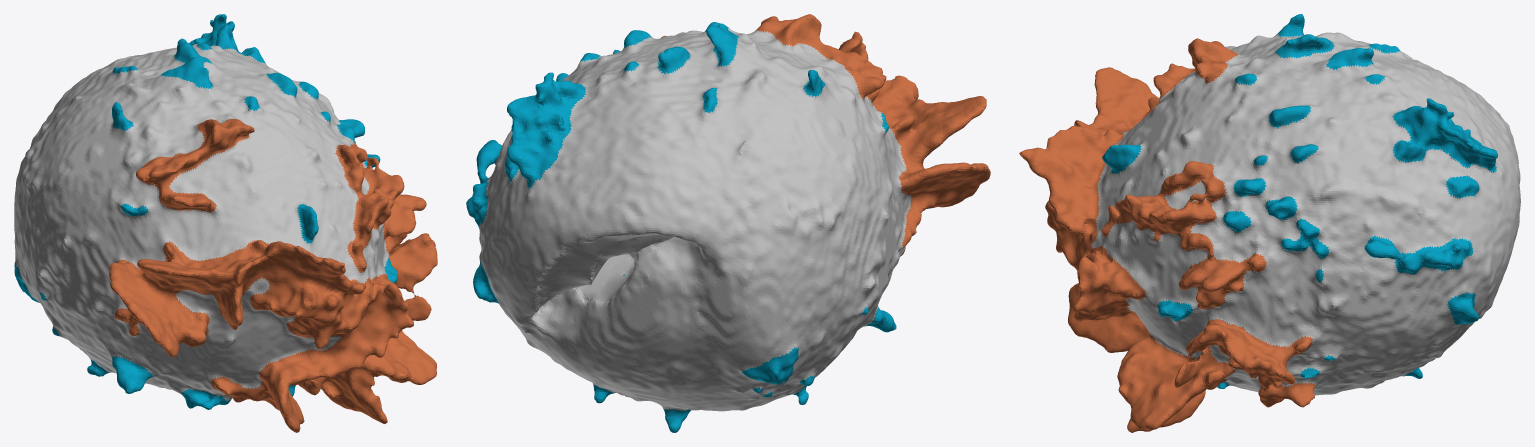
The picture shows the model from 3 angles, left to right: view 1: azimuth 30°, elevation 25°; view 2: azimuth 150°, elevation 25°; view 3: azimuth 270°, elevation 25°; orthographic projection. The views are drawn at different scales.
Size of the model in its own units: 156 by 136 by 177.
